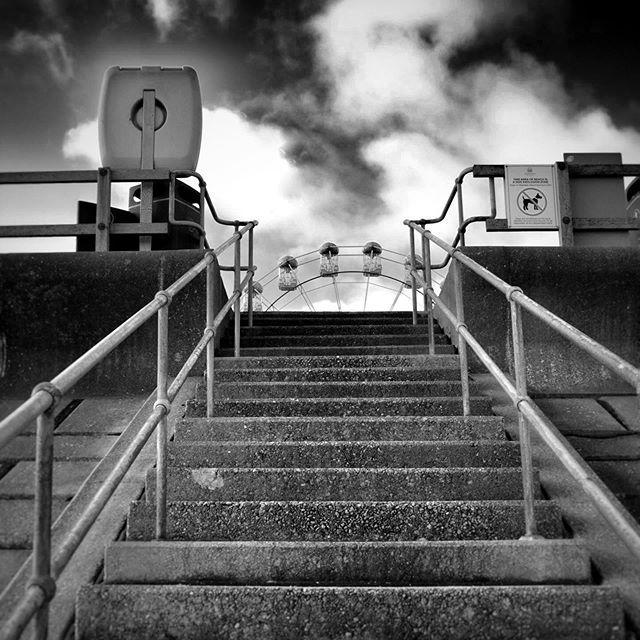sign: (497, 166, 560, 232)
sky: (1, 1, 630, 164)
